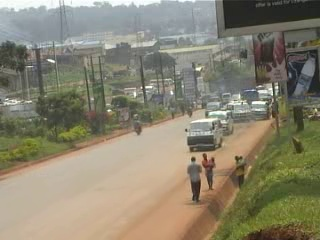Car: (203, 99, 223, 119)
Motorcycle: (132, 118, 143, 137), (186, 104, 194, 118)
